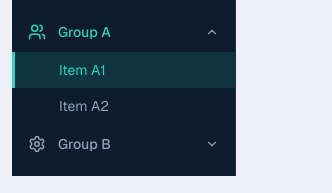
SideNav › N2 — manual toggle overrides active group › clicking group B opens B even when group A is the active route
Expected: the link "Item A1" is shown, x1=12 y1=52 x2=235 y2=88
Expected: the text "Item B1" is not shown
// Manually click group B's header button
Step 1. Click the button "Group B" → (124, 144), box x1=12 y1=124 x2=235 y2=164
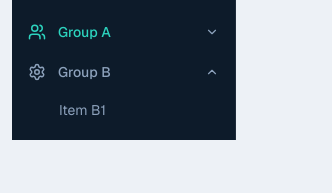
Expected: the link "Item B1" is shown, x1=59 y1=101 x2=106 y2=119
